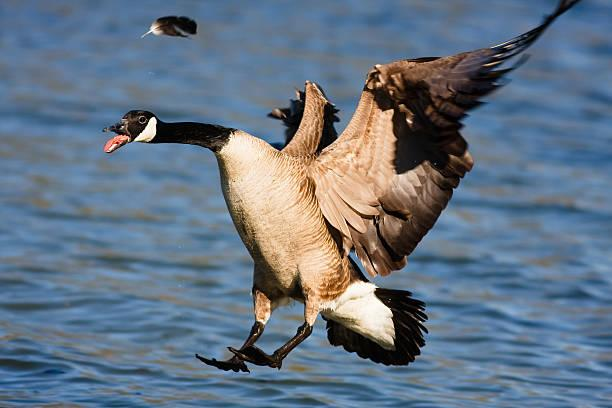Canadian-Goose: (98, 11, 570, 372)
